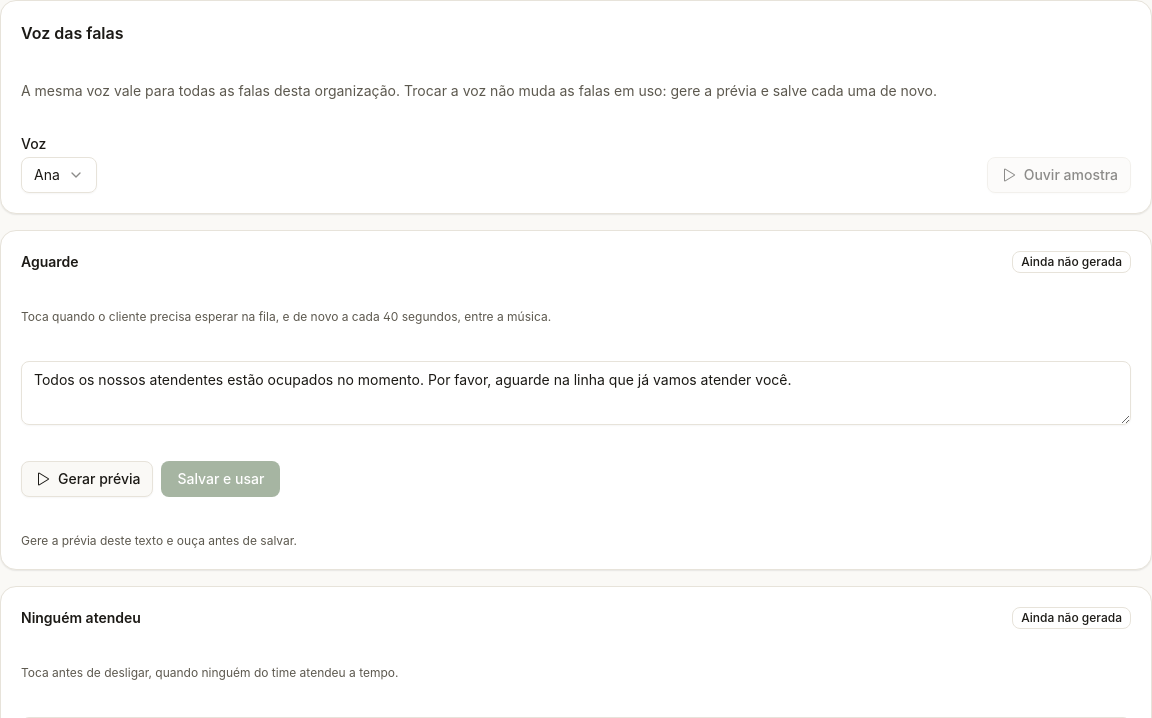
Scenario: aba Voz e falas — as falhas aparecem com o que fazer › 429 da cota (Retry-After de 1 h): a frase aparece NA HORA, sem repetir o pedido
Click the button "Gerar prévia": (87, 479) x1=21 y1=461 x2=153 y2=497
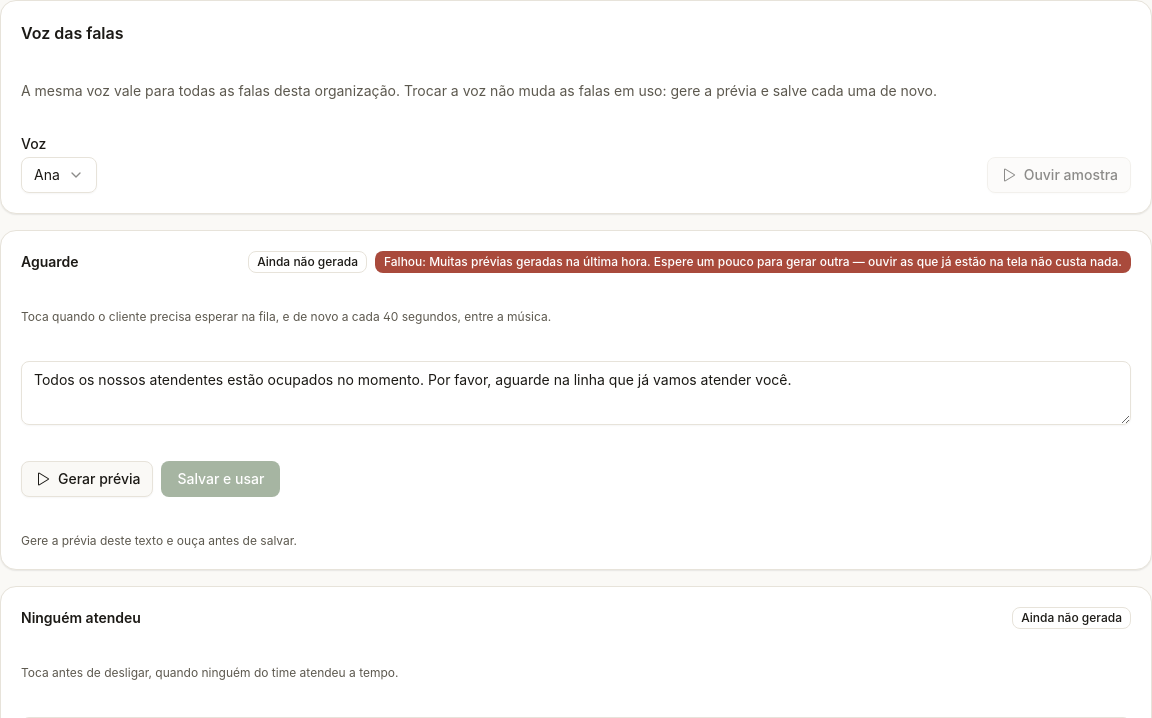
Expected: the button "Salvar e usar" is disabled, x1=161 y1=461 x2=280 y2=497
Expected: the text "Muitas prévias geradas na última hora" is shown, x1=429 y1=254 x2=1122 y2=269
